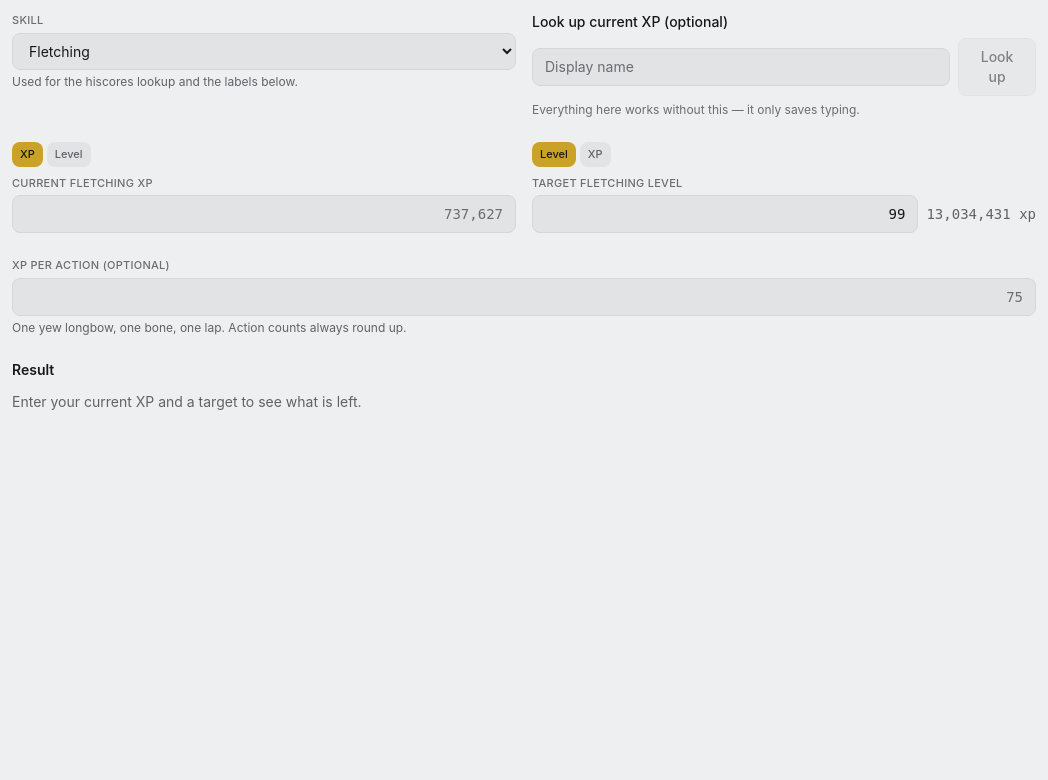
Scenario: XpCalculator › explains that level 99 is not the XP ceiling
Click the 2nd radio button labelled "XP": coordinates (595, 154) [580, 142, 611, 166]
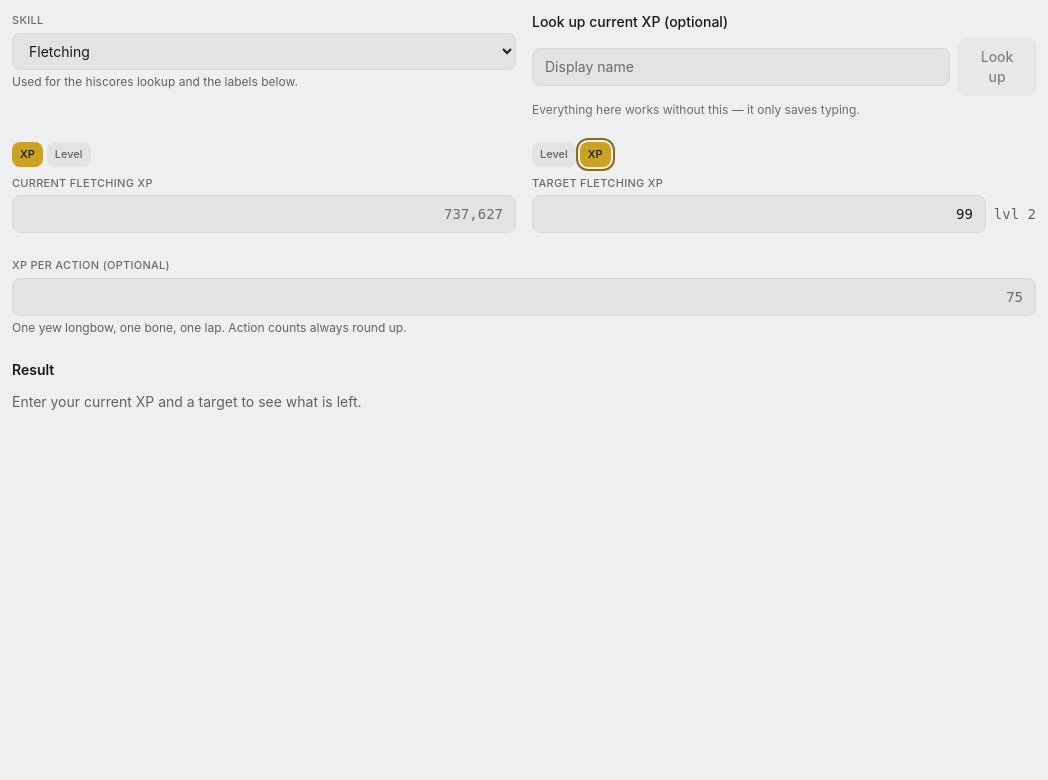
In the field labelled "Current Fletching XP": coordinates (264, 214) [12, 195, 516, 233], type "13500000"
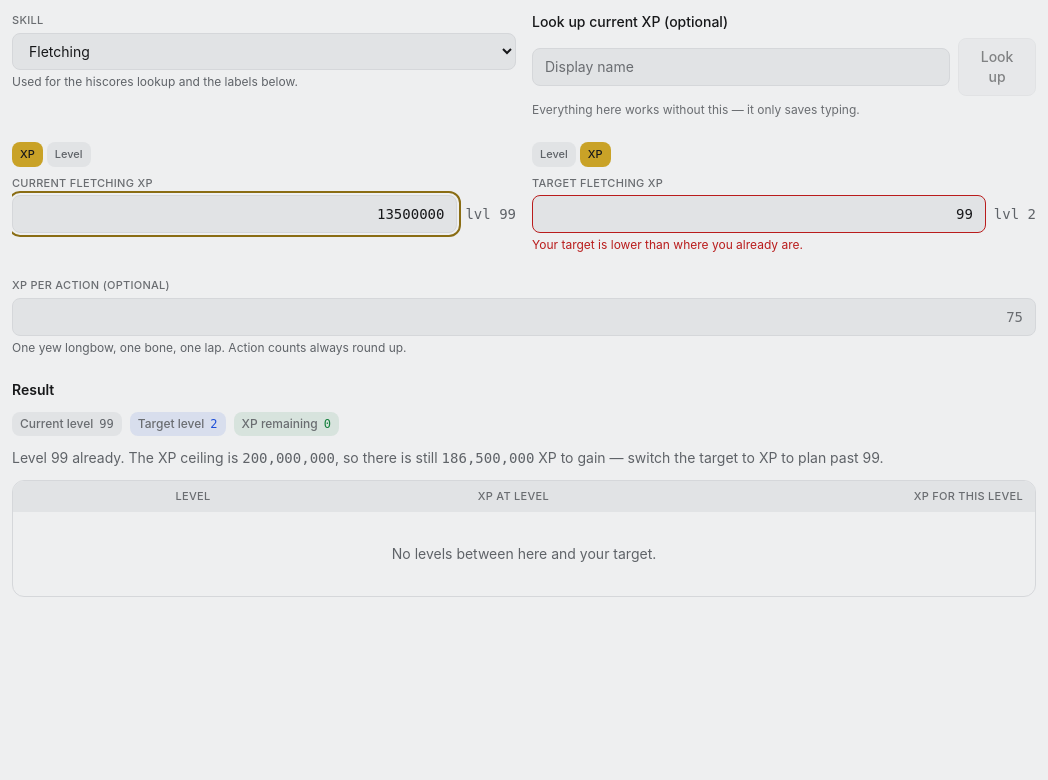
Clear the field labelled "Target Fletching XP": coordinates (759, 214) [532, 195, 986, 233]
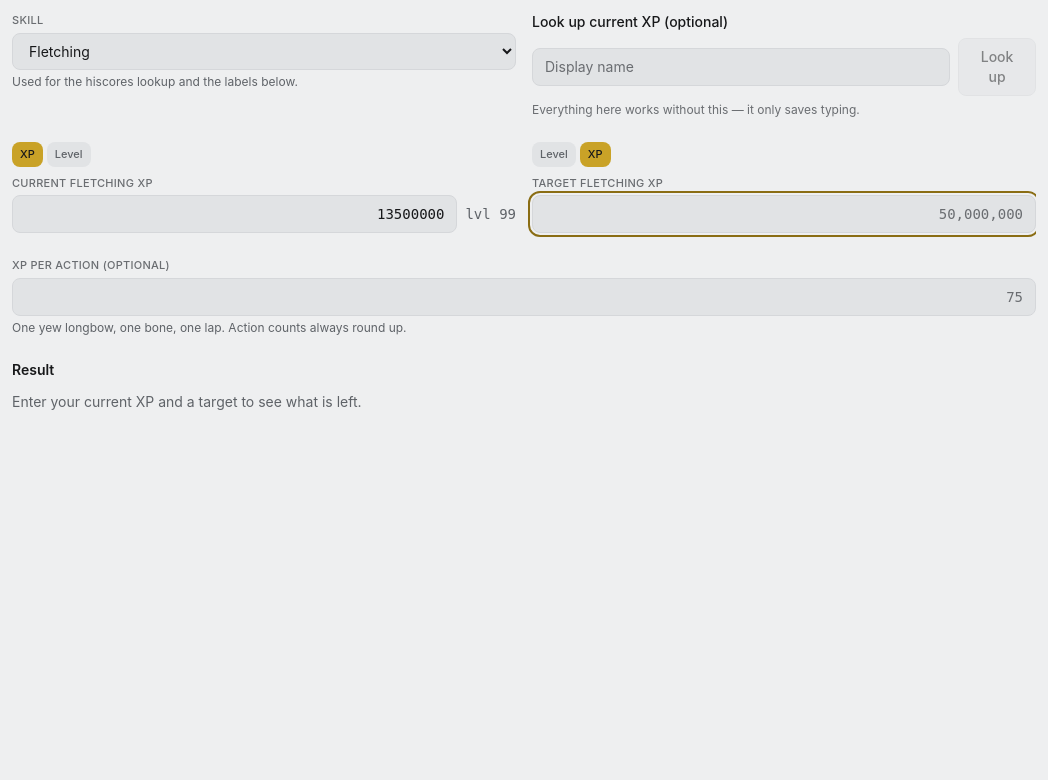
In the field labelled "Target Fletching XP": coordinates (784, 214) [532, 195, 1036, 233], type "50m"
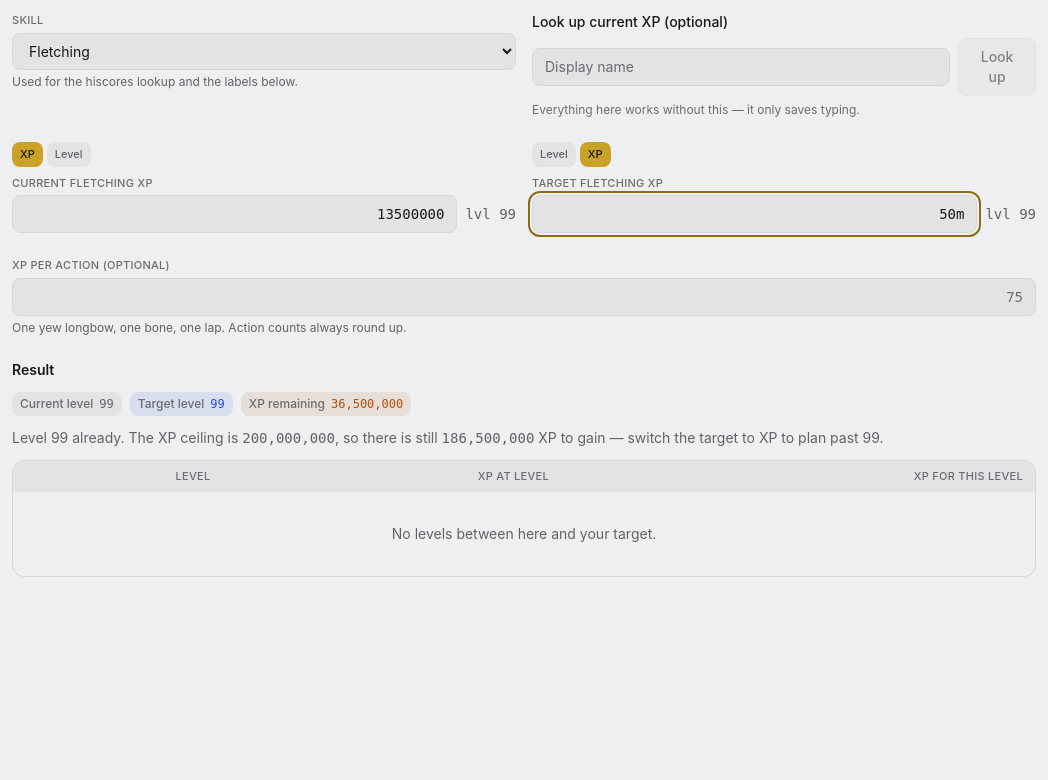
Check: the text "The XP ceiling is" is shown, box [68, 428, 238, 446]
Check: the text "36,500,000" is shown, box [331, 396, 403, 412]
